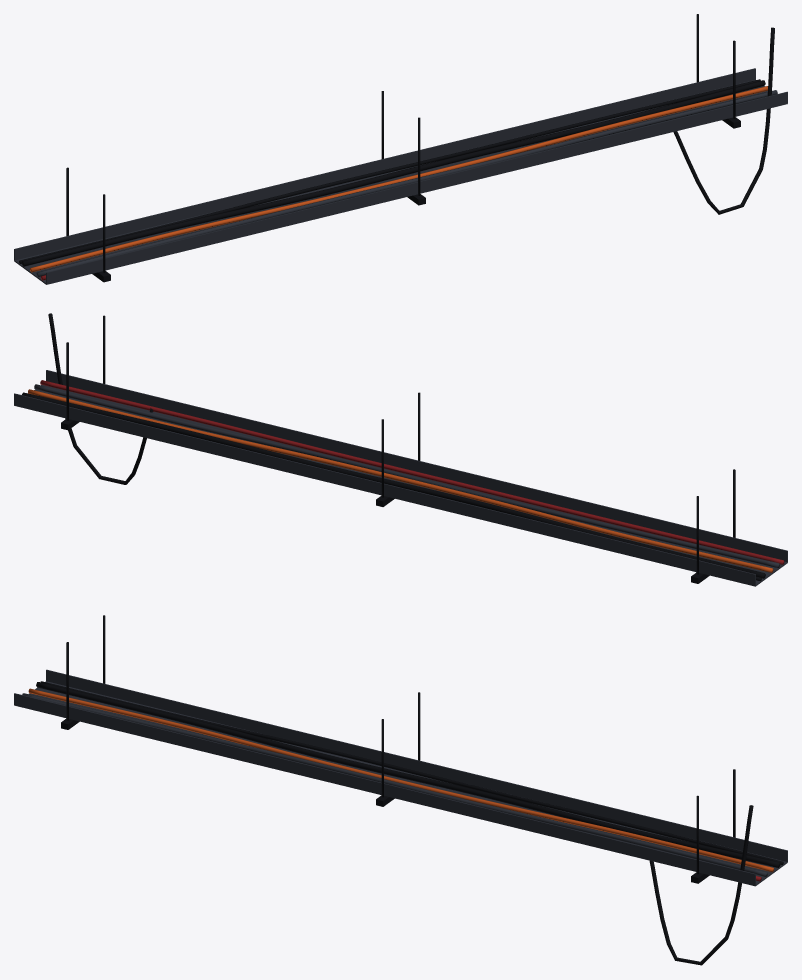
The model's file is Arch_Ceiling_CableTray_4m.glb.
3 views of the same model, one above another, from view 1: azimuth 30°, elevation 25°; view 2: azimuth 150°, elevation 25°; view 3: azimuth 330°, elevation 25° (orthographic).
Visible parts, largest first — view 1: Arch_Ceiling_CableTray_4m; view 2: Arch_Ceiling_CableTray_4m; view 3: Arch_Ceiling_CableTray_4m.
Part boxes in pixels (x1,y1,x2,y2): Arch_Ceiling_CableTray_4m: (14, 14, 787, 284); Arch_Ceiling_CableTray_4m: (14, 313, 787, 586); Arch_Ceiling_CableTray_4m: (14, 615, 787, 965).
Bounding box in the file's own units: 4 × 0.8583 × 0.4098.
